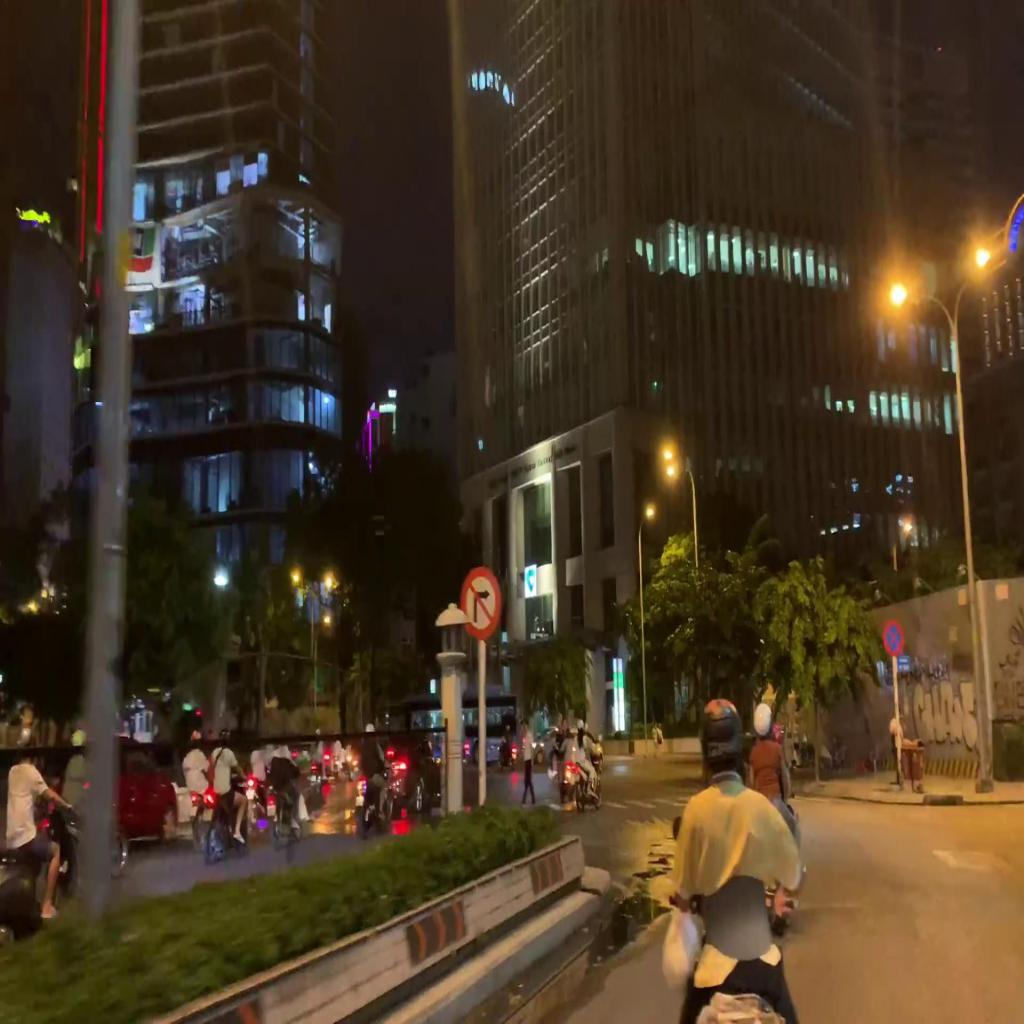cam_dung_xe_va_do_xe: (884, 620, 904, 657)
cam_re_phai: (460, 559, 502, 639)
